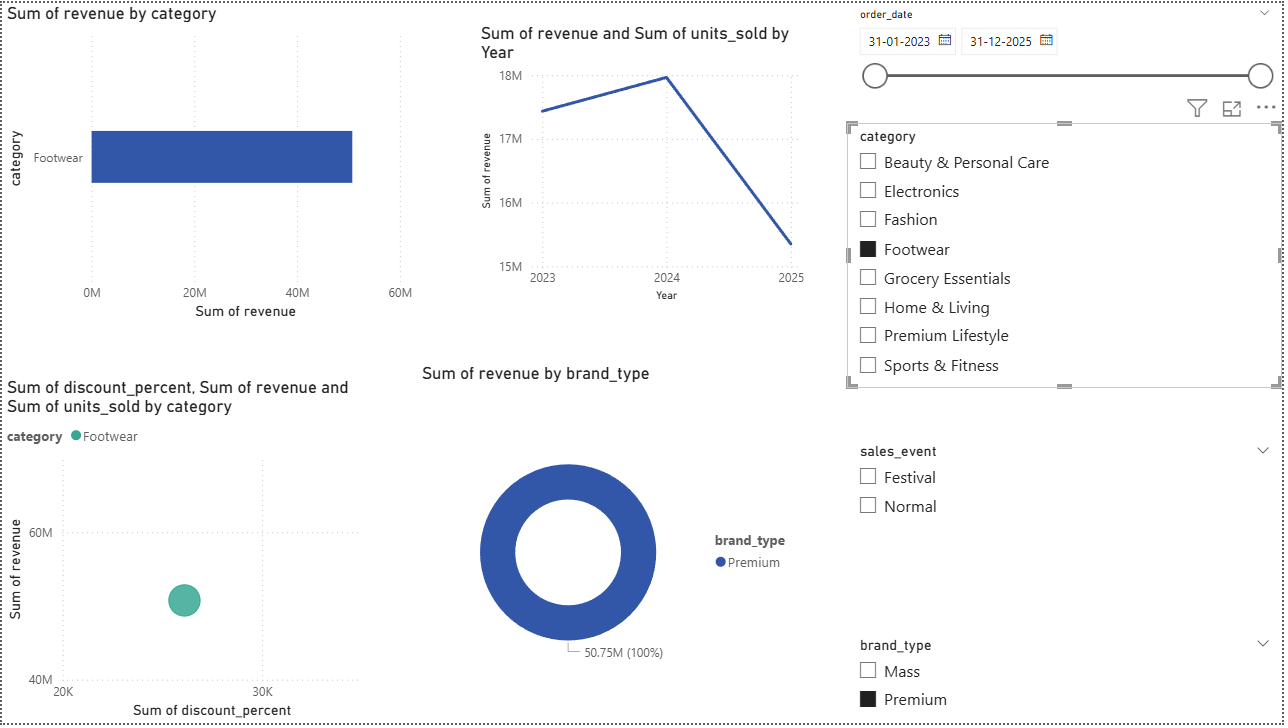

Layout of this report page (visuals, bound fields, positions):
{"tool":"powerbi","page":{"name":"Page 1","canvas":[1280,720],"ordinal":0},"visuals":[{"type":"lineChart","fields":{"Category":["Worksheet (2).order_date.Variation.Date Hierarchy.Year","Worksheet (2).order_date.Variation.Date Hierarchy.Quarter","Worksheet (2).order_date.Variation.Date Hierarchy.Month","Worksheet (2).order_date.Variation.Date Hierarchy.Day"],"Y":["Sum(Worksheet (2).revenue)"]},"box":[473.3,20,333.3,283.3],"z":0},{"type":"slicer","fields":{"Values":["Worksheet (2).order_date"]},"box":[845,0,435,106.7],"z":1000},{"type":"slicer","fields":{"Values":["Worksheet (2).category"]},"box":[845,120,435,265],"z":2000},{"type":"slicer","fields":{"Values":["Worksheet (2).sales_event"]},"box":[845,435,435,91.7],"z":3000},{"type":"slicer","fields":{"Values":["Worksheet (2).brand_type"]},"box":[845,628.3,435,91.7],"z":4000},{"type":"clusteredBarChart","fields":{"Category":["Worksheet (2).category"],"Y":["Sum(Worksheet (2).revenue)"]},"box":[0,0,415,321.7],"z":5000},{"type":"scatterChart","fields":{"X":["Sum(Worksheet (2).discount_percent)"],"Y":["Sum(Worksheet (2).revenue)"],"Size":["Sum(Worksheet (2).units_sold)"],"Series":["Worksheet (2).category"]},"box":[0,373.3,375,346.7],"z":6000},{"type":"donutChart","fields":{"Category":["Worksheet (2).brand_type"],"Y":["Sum(Worksheet (2).revenue)"]},"box":[415,360,391.7,360],"z":6001}]}

Visuals, with their boxes in screenshot pixels (x1, y1, x2, y2), scaled from the page's 1280x720 canvas onto the 1288x728 screenshot:
lineChart - Worksheet (2).order_date.Variation.Date Hierarchy.Year x Worksheet (2).order_date.Variation.Date Hierarchy.Quarter: box=[476, 20, 812, 307]
slicer - Worksheet (2).order_date: box=[850, 0, 1287, 108]
slicer - Worksheet (2).category: box=[850, 121, 1287, 389]
slicer - Worksheet (2).sales_event: box=[850, 440, 1287, 533]
slicer - Worksheet (2).brand_type: box=[850, 635, 1287, 727]
clusteredBarChart - Worksheet (2).category x Sum(Worksheet (2).revenue): box=[0, 0, 418, 325]
scatterChart - Sum(Worksheet (2).discount_percent) x Sum(Worksheet (2).revenue): box=[0, 377, 377, 727]
donutChart - Worksheet (2).brand_type x Sum(Worksheet (2).revenue): box=[418, 364, 812, 727]
